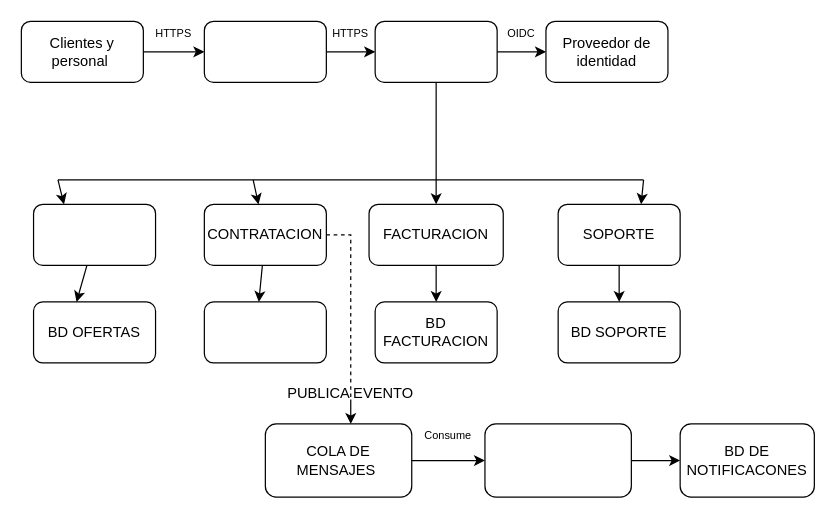
Some shapes in this 836 by 519 pixel diagram are drawn without their labels. The shapes that lost their labels are listed below. From the top down, each one's box as (x1, y1, x2, y2) in pixels, then its label:
(203, 20, 326, 82): Portal Web
(374, 20, 497, 82): API GATEWAY
(32, 203, 156, 265): PLANES Y COBERTURAS
(203, 301, 326, 363): BD CONTRATACION
(484, 423, 631, 497): NOTIFICACIONES
